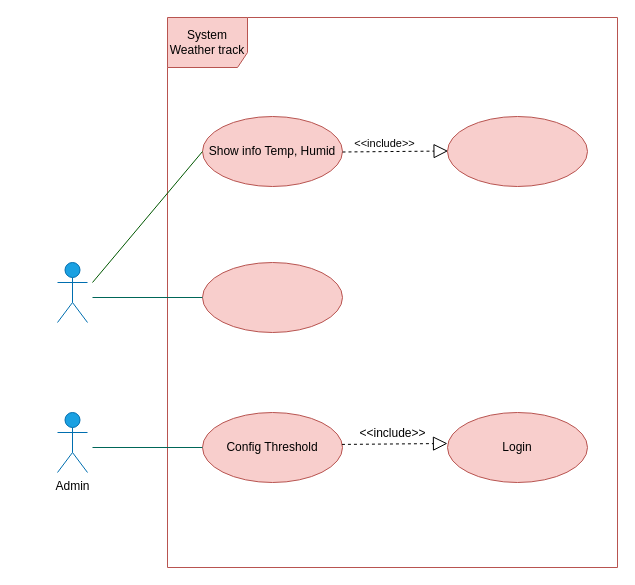
This 635x585 diagram has some shape labels left out. The box of each missing label's shape, as (x1, y1, x2, y2) in pixels:
Refresh: (446, 116, 588, 186)
Users: (56, 262, 88, 322)
Warning Threshold: (202, 262, 342, 332)
